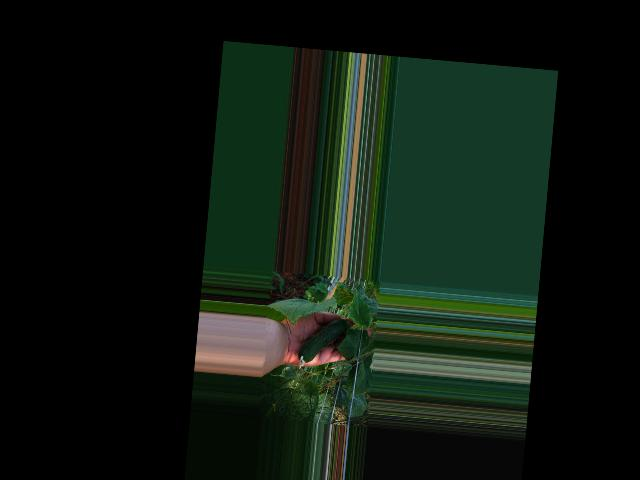cucumber: (297, 315, 348, 373)
